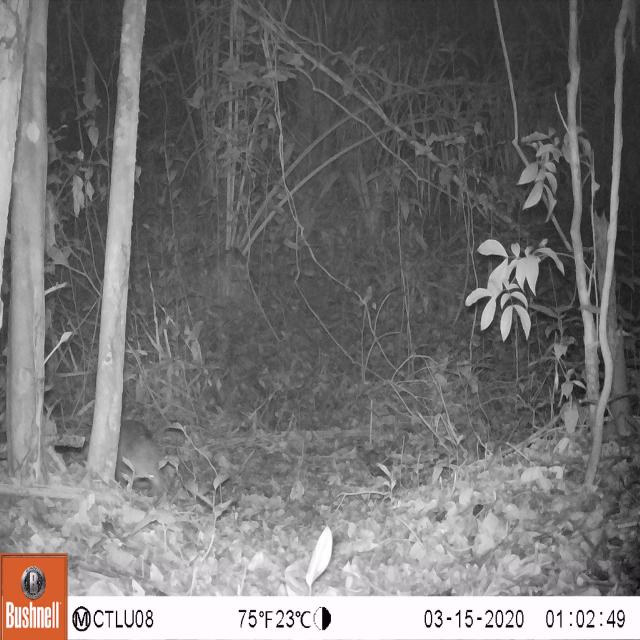Armadillo: (108, 414, 176, 504)
